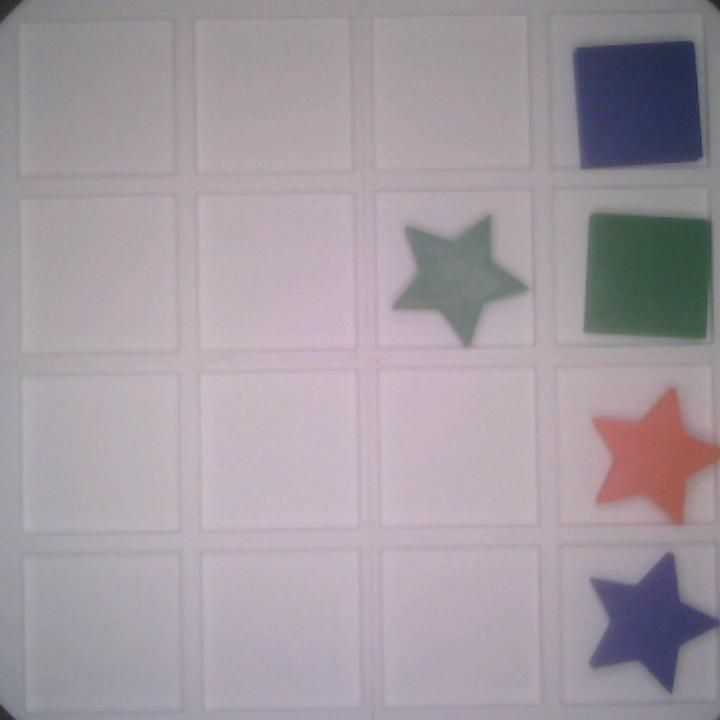Blue square: (571, 32, 704, 167)
Blue star: (583, 551, 719, 694)
Green square: (577, 207, 716, 338)
Green star: (393, 216, 532, 344)
Orange star: (587, 382, 720, 522)
